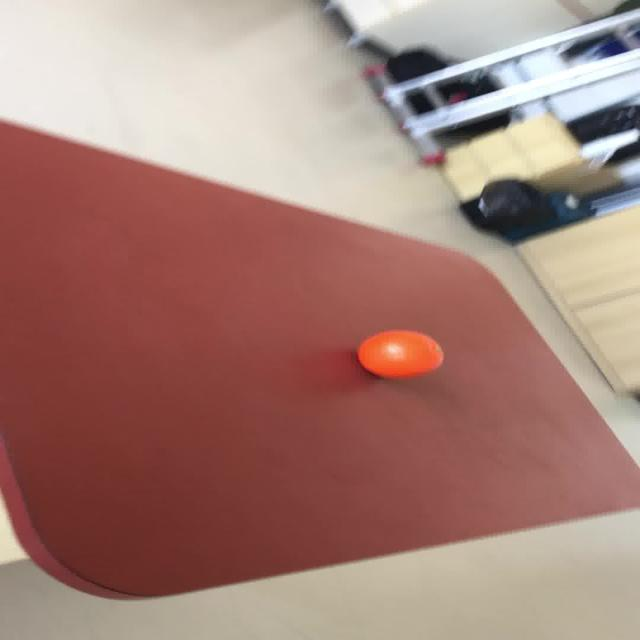orange: (356, 329, 443, 379)
